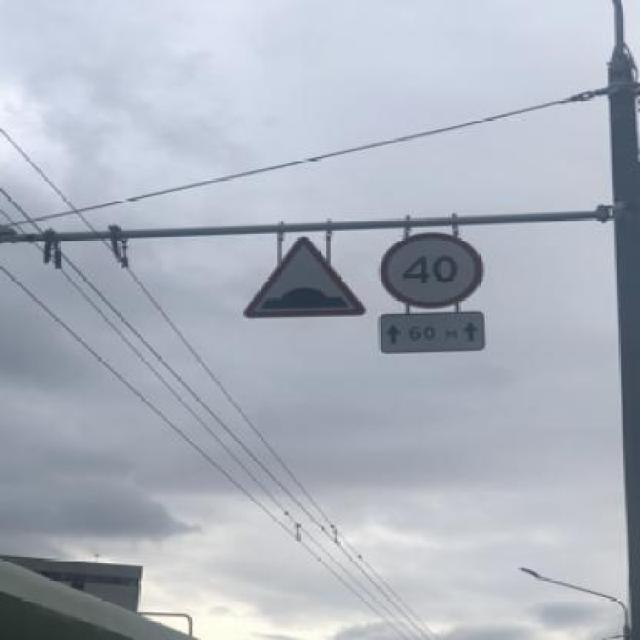forb_speed_over_40: (379, 230, 483, 305)
